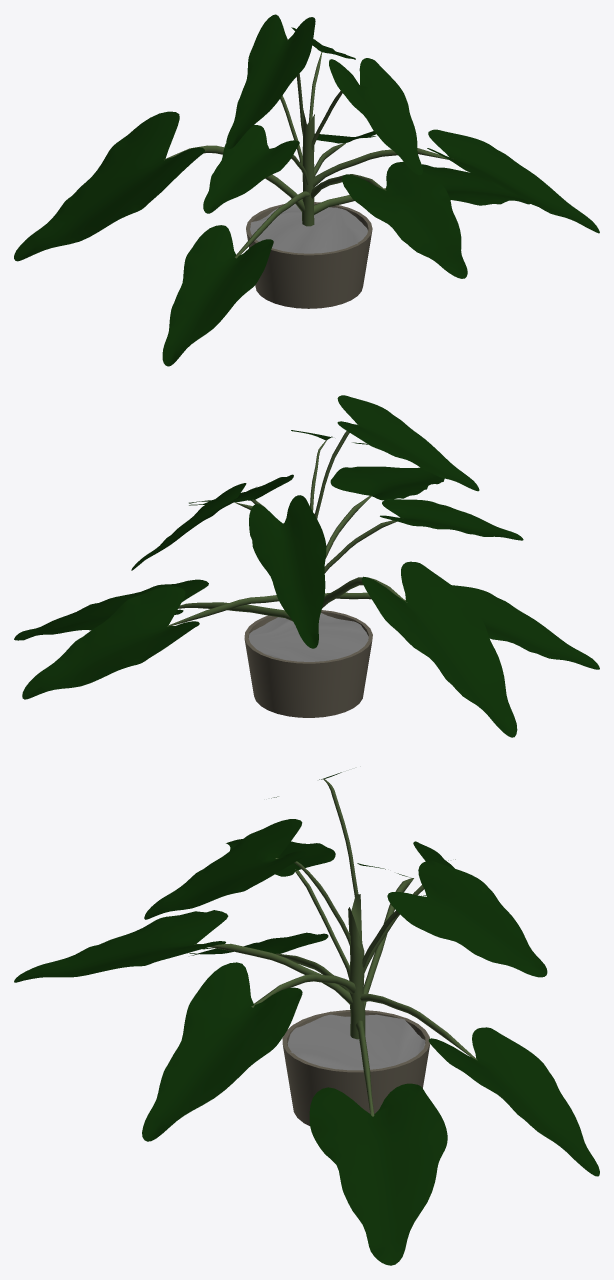
The model's file is small plant.FBX.
The picture shows the model from 3 angles, top to bottom: view 1: azimuth 30°, elevation 25°; view 2: azimuth 150°, elevation 25°; view 3: azimuth 270°, elevation 25°; orthographic projection. The views are drawn at different scales.
Parts seen in each view (by area): view 1: Line07, Tube01, Circle01; view 2: Line07, Tube01, Circle01; view 3: Line07, Circle01, Tube01.
Boxes of the visible parts, x1,y1,x2,y2 form: Line07: (14,14,599,366); Tube01: (246,202,372,308); Circle01: (250,204,367,253); Line07: (14,395,599,737); Tube01: (244,610,372,717); Circle01: (248,613,368,661); Line07: (14,772,599,1265); Circle01: (287,1014,425,1070); Tube01: (282,1010,429,1125).
Bounding box in the file's own units: 76.28 × 39.59 × 63.21.
